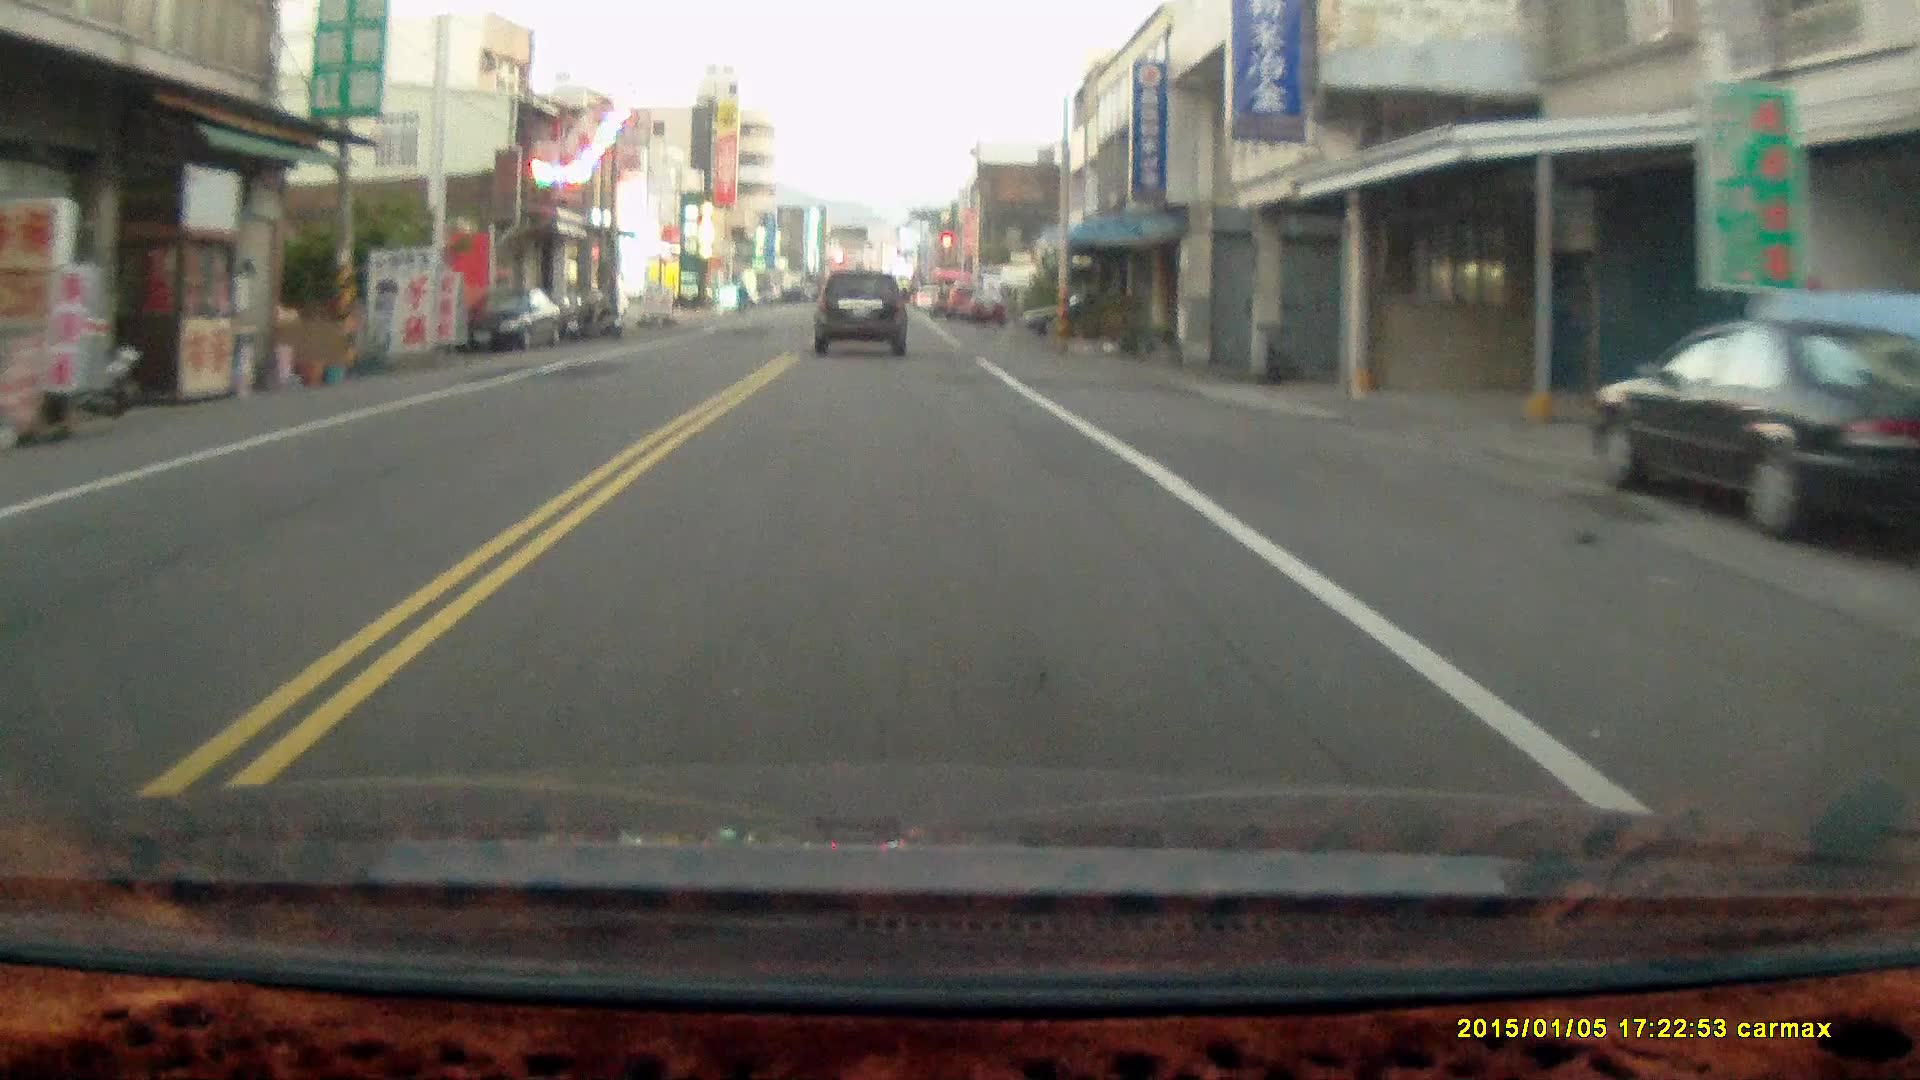vehicle: (1589, 324, 1920, 553), (814, 272, 910, 361), (454, 287, 562, 355)
